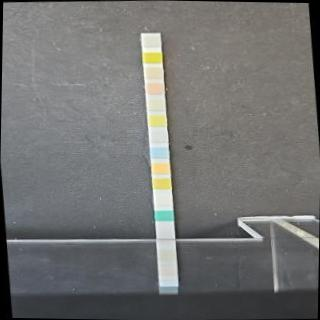mark: (150, 161, 169, 174), (151, 177, 170, 189), (154, 194, 172, 206), (150, 146, 168, 158), (149, 130, 167, 142), (146, 98, 164, 110), (144, 66, 162, 78), (144, 52, 162, 64), (145, 82, 162, 94), (142, 35, 159, 47), (148, 115, 165, 126), (156, 210, 173, 220)
